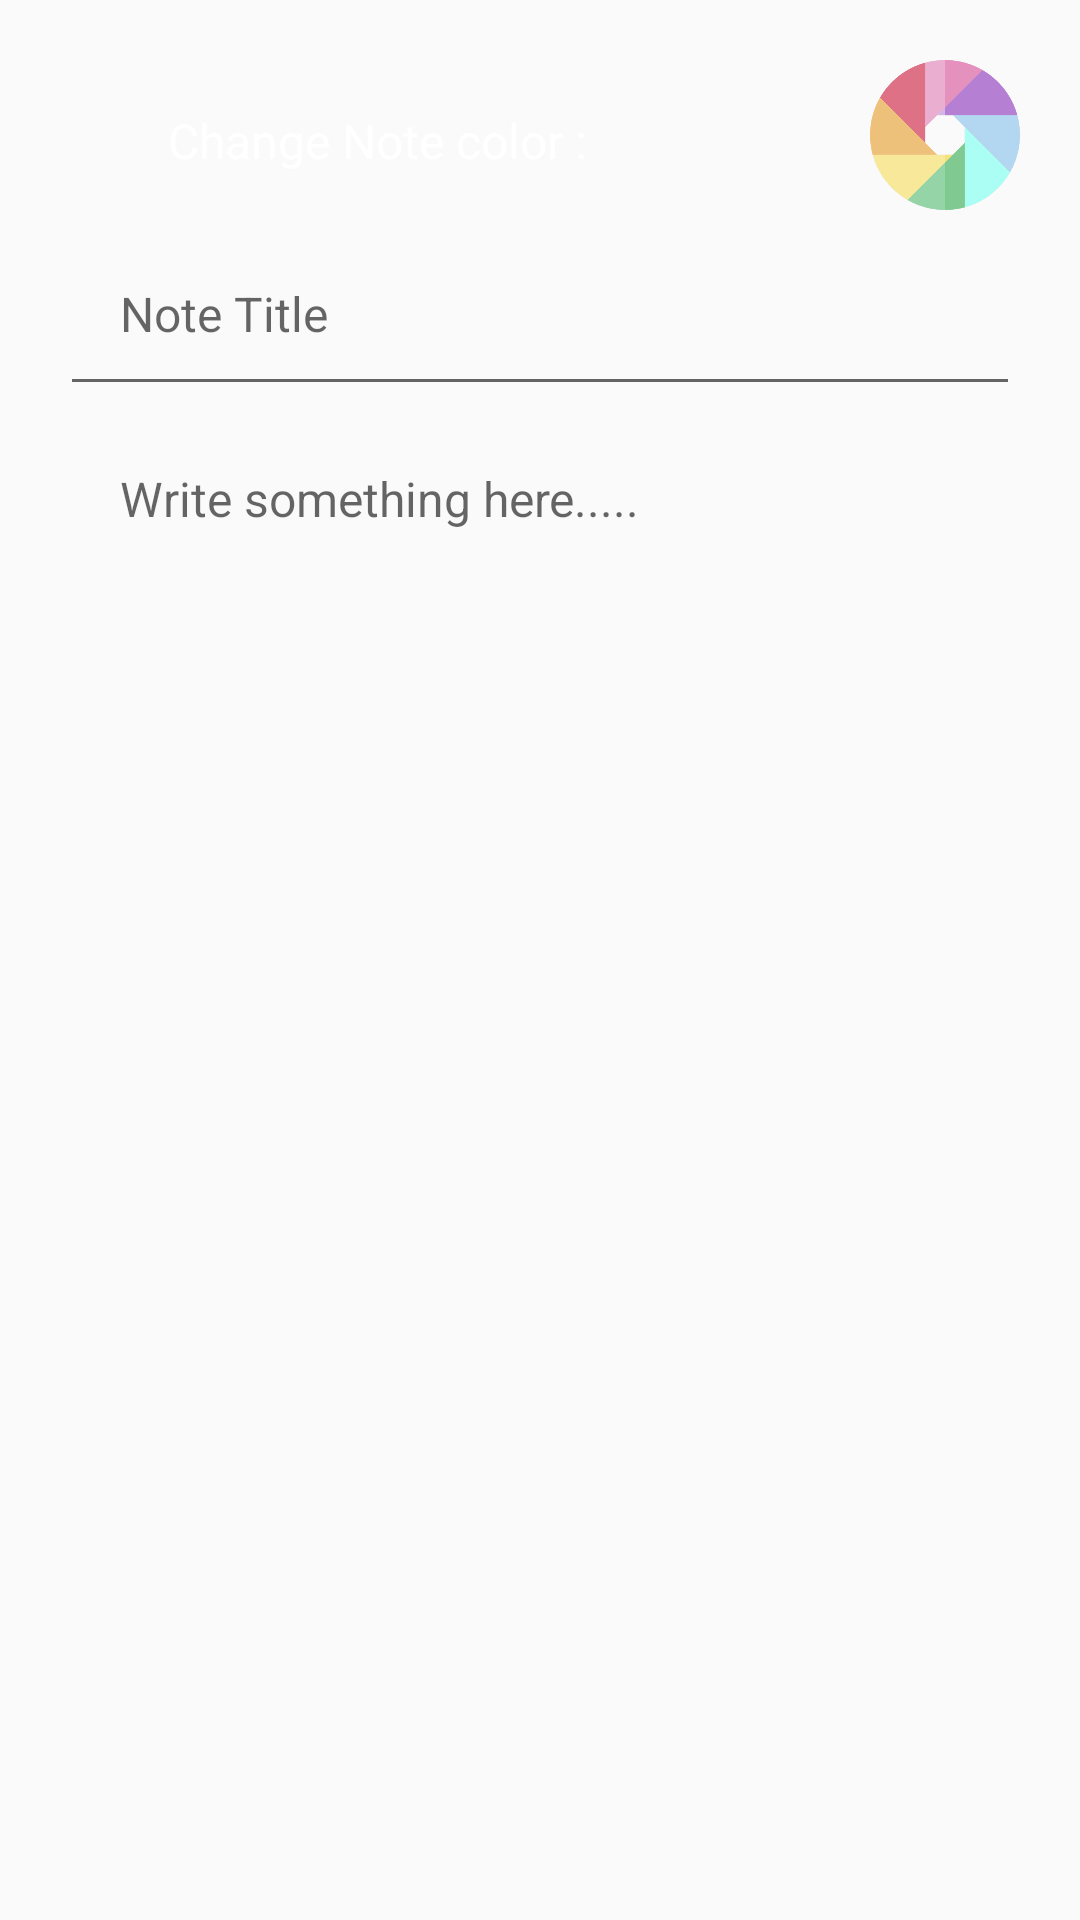

Icon click points for this 1080px×1920px phone screenshot, format (x=x, y=y):
palette: (x=945, y=135)
